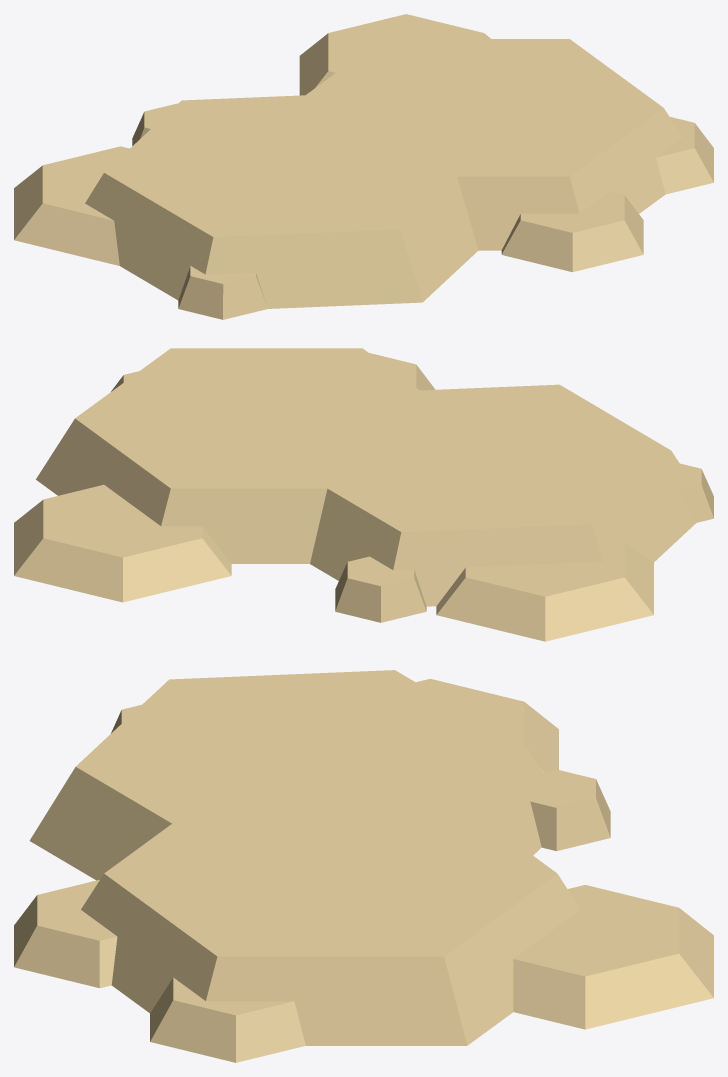
The model's file is stone_rock_flat.glb.
The picture shows the model from 3 angles, top to bottom: view 1: azimuth 30°, elevation 25°; view 2: azimuth 150°, elevation 25°; view 3: azimuth 270°, elevation 25°; orthographic projection. The views are drawn at different scales.
Visible parts, largest first — view 1: rockFlat; view 2: rockFlat; view 3: rockFlat.
Boxes of the visible parts, x1,y1,x2,y2 form: rockFlat: [14, 14, 713, 319]; rockFlat: [14, 348, 713, 641]; rockFlat: [14, 670, 713, 1062].
Size of the model in its own units: 1.79 by 0.1651 by 1.45.
